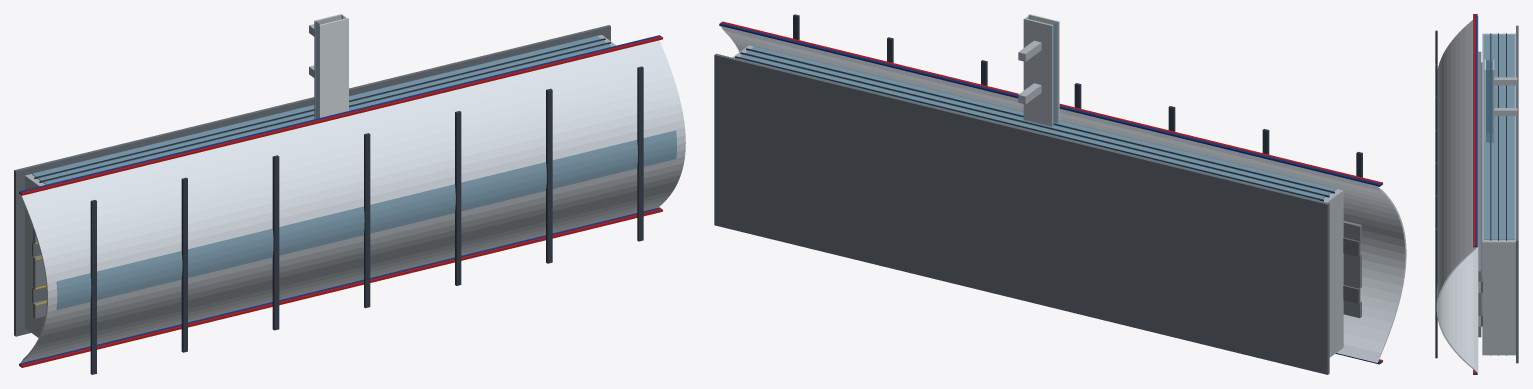
File: makkasan.glb
The picture shows the model from 3 angles, left to right: view 1: azimuth 30°, elevation 25°; view 2: azimuth 150°, elevation 25°; view 3: azimuth 270°, elevation 25°; orthographic projection. The views are drawn at different scales.
Parts seen in each view (by area): view 1: AerodynamicRoofVault, LongitudinalSkylight, CantileverRoof, GlazedCurtain_North, PodiumBody, GroundPlinth, SkybridgeCanopy, Fascia_ArlCrimson_North, TerminalPodium, Fascia_ArlCrimson_South, Fascia_ArlNavy_North, Fascia_ArlNavy_South (+1 smaller); view 2: GroundPlinth, AerodynamicRoofVault, PodiumBody, GlazedCurtain_North, TerminalPodium, SkybridgeDeck, Fascia_ArlNavy_North, Fascia_ArlCrimson_North, CantileverRoof, ElevatedSkybridge, SkybridgeCanopy, CentralExpressPlatform (+1 smaller); view 3: AerodynamicRoofVault, PodiumBody, GlazedCurtain_North, ElevatedSkybridge, GroundPlinth, CantileverRoof, NorthSidePlatform, Fascia_ArlNavy_North, Fascia_ArlCrimson_North, TerminalPodium, PlatformLevel, SkybridgeDeck (+2 smaller).
Boxes of the visible parts, box(x1,y1,x2,y2) form: AerodynamicRoofVault: box(20, 40, 685, 363); LongitudinalSkylight: box(56, 130, 676, 309); CantileverRoof: box(90, 66, 643, 374); GlazedCurtain_North: box(32, 35, 611, 184); PodiumBody: box(25, 35, 616, 337); GroundPlinth: box(14, 25, 610, 336); SkybridgeCanopy: box(319, 18, 348, 117); Fascia_ArlCrimson_North: box(20, 36, 662, 195); TerminalPodium: box(34, 38, 610, 182); Fascia_ArlCrimson_South: box(20, 208, 662, 367); Fascia_ArlNavy_North: box(19, 35, 660, 194); Fascia_ArlNavy_South: box(19, 207, 660, 366); GroundPlinth: box(714, 53, 1329, 374); AerodynamicRoofVault: box(721, 26, 1406, 362); PodiumBody: box(732, 45, 1343, 357); GlazedCurtain_North: box(737, 46, 1336, 200); TerminalPodium: box(735, 48, 1334, 201); SkybridgeDeck: box(1023, 18, 1053, 126); Fascia_ArlNavy_North: box(719, 23, 1381, 186); Fascia_ArlCrimson_North: box(721, 21, 1382, 185); CantileverRoof: box(793, 14, 1362, 177); ElevatedSkybridge: box(1018, 15, 1057, 124); SkybridgeCanopy: box(1028, 14, 1059, 122); CentralExpressPlatform: box(1343, 253, 1361, 288); AerodynamicRoofVault: box(1436, 16, 1478, 372); PodiumBody: box(1482, 33, 1515, 355); GlazedCurtain_North: box(1483, 34, 1514, 239); ElevatedSkybridge: box(1486, 60, 1517, 142); GroundPlinth: box(1516, 25, 1518, 363); CantileverRoof: box(1435, 30, 1437, 358); NorthSidePlatform: box(1478, 51, 1481, 281); Fascia_ArlNavy_North: box(1475, 14, 1477, 247); Fascia_ArlCrimson_North: box(1473, 14, 1475, 247); TerminalPodium: box(1490, 33, 1506, 355); PlatformLevel: box(1481, 62, 1482, 326); SkybridgeDeck: box(1492, 60, 1494, 142).
Bounding box in the file's own units: 211 × 82.4 × 32.
